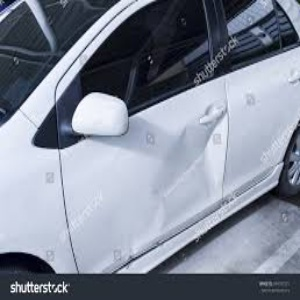door: (141, 138, 238, 195)
